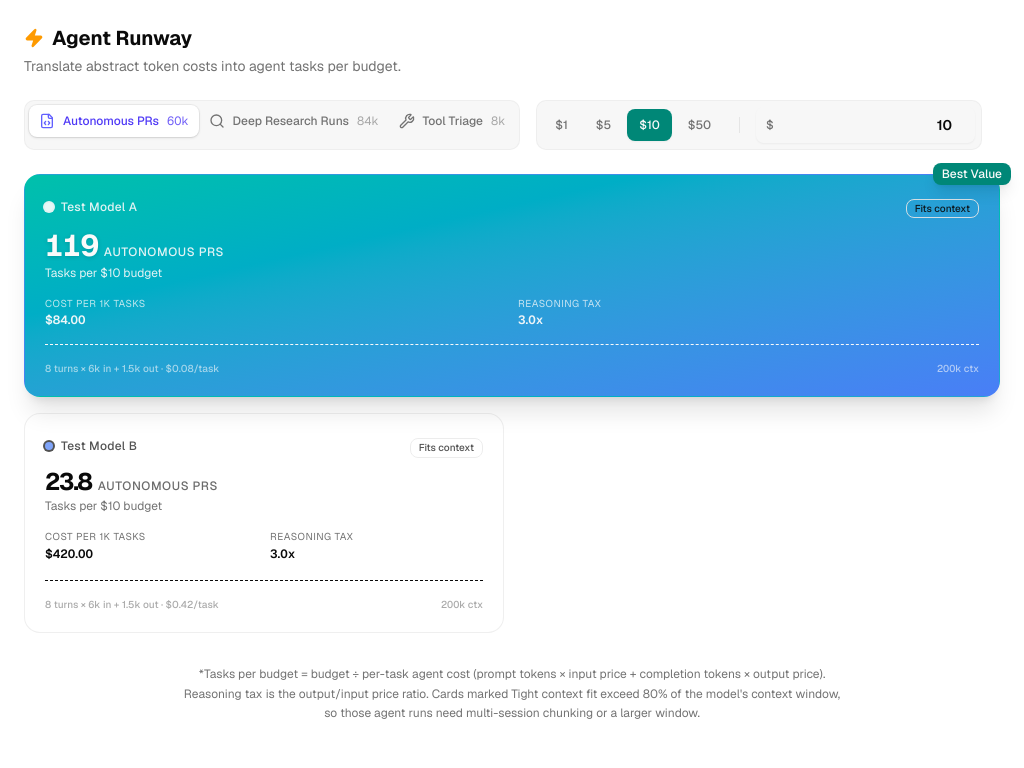
it: ImpactCalculator › switches archetype metrics and recomputes tasks
This screenshot has width=1024, height=768.
Click the button "Deep Research Runs 84k" at (294, 121), box x1=198 y1=105 x2=388 y2=137
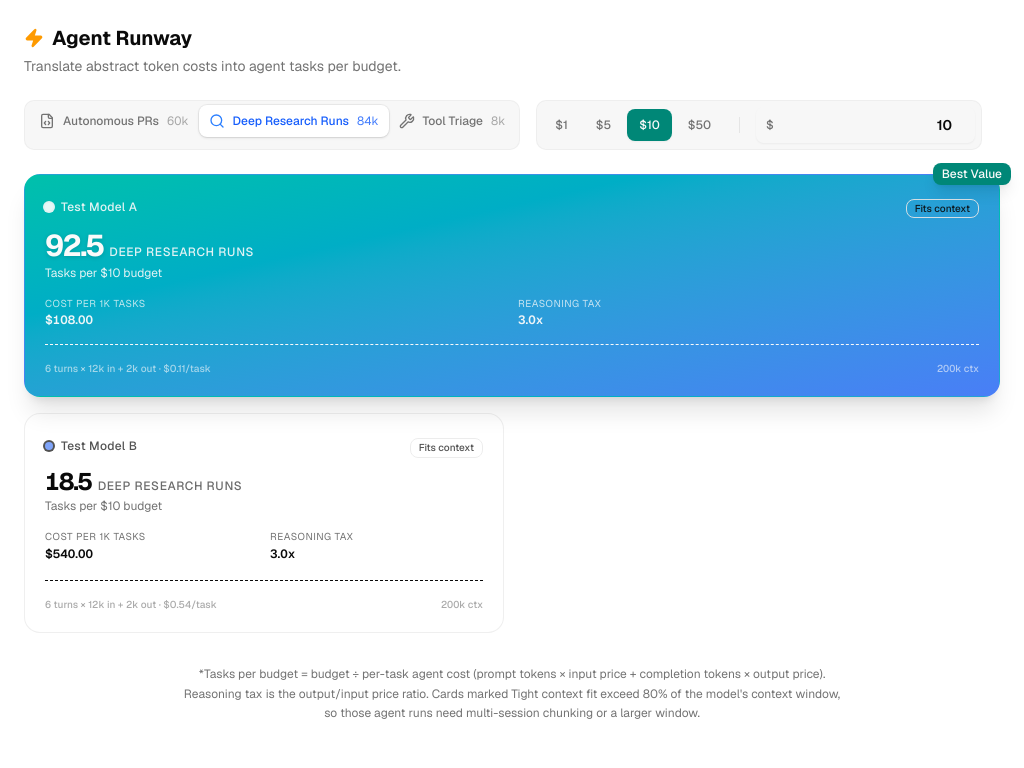
Expected: the text "92.5" is shown, x1=45 y1=231 x2=103 y2=261
